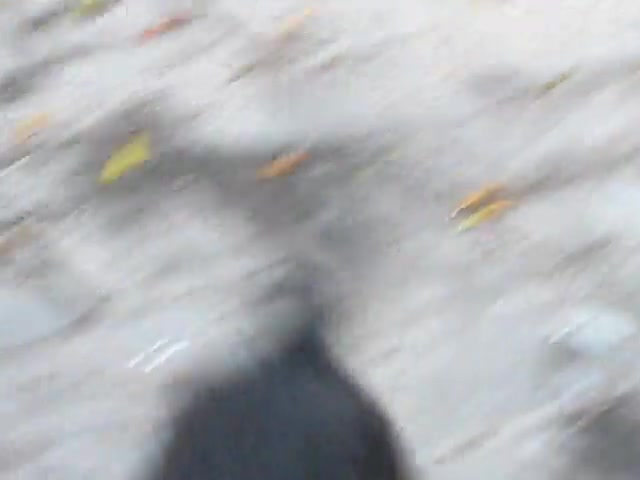dog: (142, 273, 425, 480)
